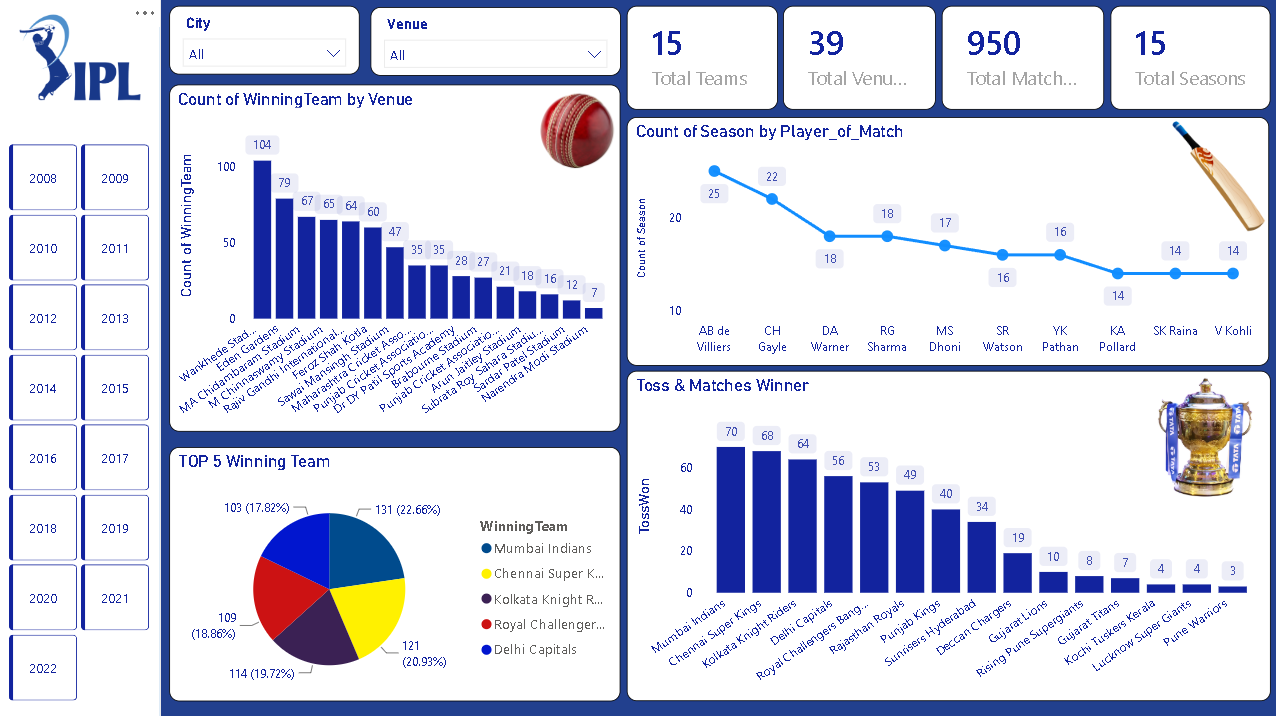

This screenshot's page, from the dashboard's own definition file:
{"tool":"powerbi","page":{"name":"Page 1","canvas":[1280,720],"ordinal":0},"visuals":[{"type":"shape","box":[0,0,162.9,720.2],"z":0},{"type":"image","box":[20.5,0,123.1,119.4],"z":1000},{"type":"advancedSlicerVisual","fields":{"Values":["New_iplData.Season"]},"box":[5.7,142.9,151.4,572.9],"z":2000},{"type":"slicer","fields":{"Values":["New_iplData.City"]},"box":[171.3,9.3,190.7,68.7],"z":3000},{"type":"slicer","fields":{"Values":["New_iplData.Venue"]},"box":[372.7,10,250.7,68.7],"z":4000},{"type":"cardVisual","fields":{"Data":["CountNonNull(New_iplData.ID)"]},"box":[943.3,9.3,162.7,104],"z":5000},{"type":"cardVisual","fields":{"Data":["New_iplData.Total Seasons"]},"box":[1112,9.3,160,104],"z":6000},{"type":"cardVisual","fields":{"Data":["New_iplData.Total Teams"]},"box":[628.7,9.3,151.3,104],"z":7000},{"type":"cardVisual","fields":{"Data":["New_iplData.Total Venues"]},"box":[785.3,9.3,152.7,104],"z":8000},{"type":"columnChart","fields":{"Category":["New_iplData.Venue"],"Y":["CountNonNull(New_iplData.WinningTeam)"]},"box":[171.4,87.1,451.4,347.1],"z":9000},{"type":"pieChart","title":"TOP 5 Winning Team","fields":{"Category":["New_iplData.WinningTeam"],"Y":["CountNonNull(New_iplData.WinningTeam)"]},"box":[171.4,450,451.4,254.3],"z":10000},{"type":"lineChart","fields":{"Category":["New_iplData.Player_of_Match"],"Y":["CountNonNull(New_iplData.Season)"]},"box":[628.8,120,642.5,248.8],"z":11000},{"type":"clusteredColumnChart","title":"Toss & Matches Winner","fields":{"Category":["New_iplData.WinningTeam"],"Y":["New_iplData.TossWon"]},"box":[628.7,374,644,330],"z":12000},{"type":"image","box":[1131.4,304.3,148.6,272.9],"z":13000},{"type":"image","box":[531.4,70,95.7,128.6],"z":14000},{"type":"image","box":[1160,91.2,120,178.8],"z":15000}]}

Visuals, with their boxes in screenshot pixels (x1, y1, x2, y2), scaled from the page's 1280x720 canvas onto the 1276x716 screenshot:
shape: <region>0, 0, 162, 715</region>
image: <region>20, 0, 143, 119</region>
advancedSlicerVisual - New_iplData.Season: <region>6, 142, 157, 712</region>
slicer - New_iplData.City: <region>171, 9, 361, 78</region>
slicer - New_iplData.Venue: <region>372, 10, 621, 78</region>
cardVisual - CountNonNull(New_iplData.ID): <region>940, 9, 1103, 113</region>
cardVisual - New_iplData.Total Seasons: <region>1109, 9, 1268, 113</region>
cardVisual - New_iplData.Total Teams: <region>627, 9, 778, 113</region>
cardVisual - New_iplData.Total Venues: <region>783, 9, 935, 113</region>
columnChart - New_iplData.Venue x CountNonNull(New_iplData.WinningTeam): <region>171, 87, 621, 432</region>
"TOP 5 Winning Team" pieChart: <region>171, 448, 621, 700</region>
lineChart - New_iplData.Player_of_Match x CountNonNull(New_iplData.Season): <region>627, 119, 1267, 367</region>
"Toss & Matches Winner" clusteredColumnChart: <region>627, 372, 1269, 700</region>
image: <region>1128, 303, 1275, 574</region>
image: <region>530, 70, 625, 197</region>
image: <region>1156, 91, 1275, 268</region>
